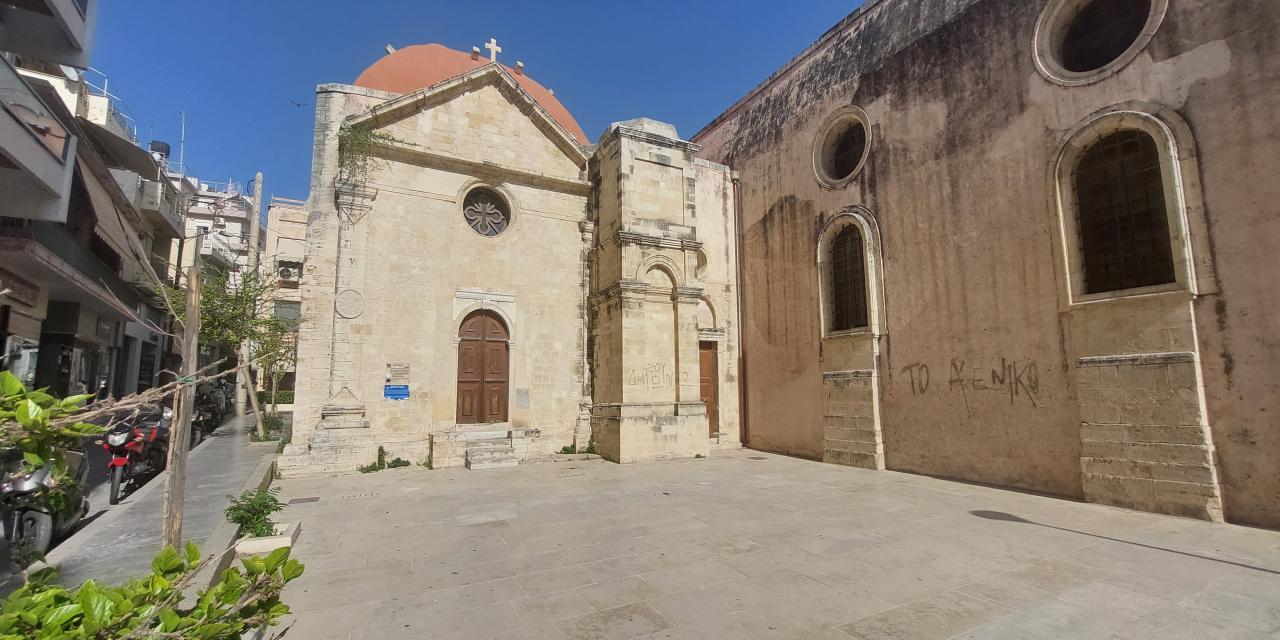Agia Aikaterini: (296, 4, 1280, 541)
